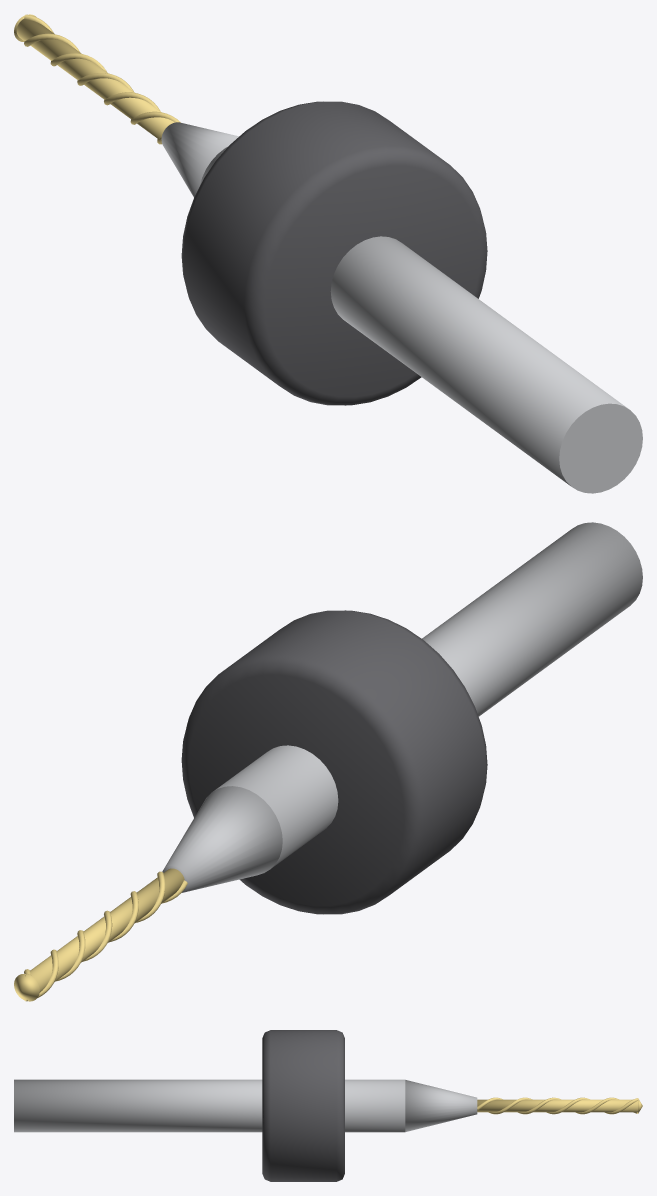
Rendered from drill18_1.glb.
3 views of the same model, one above another, from view 1: azimuth 30°, elevation 25°; view 2: azimuth 150°, elevation 25°; view 3: azimuth 270°, elevation 25° (orthographic). The views are drawn at different scales.
Parts seen in each view (by area): view 1: Cylinder.002, Cylinder.001, Cylinder, Cone, flute, flute.001; view 2: Cylinder.002, Cylinder.001, Cone, Cylinder, flute, flute.001; view 3: Cylinder.001, Cylinder.002, Cone, Cylinder, flute.001, flute.
Boxes of the visible parts, bbox=[...] form: Cylinder.002: bbox=[181, 101, 487, 405]; Cylinder.001: bbox=[200, 147, 642, 493]; Cylinder: bbox=[16, 19, 175, 138]; Cone: bbox=[161, 122, 238, 197]; flute: bbox=[24, 33, 180, 124]; flute.001: bbox=[24, 14, 161, 144]; Cylinder.002: bbox=[181, 610, 487, 914]; Cylinder.001: bbox=[213, 522, 642, 868]; Cone: bbox=[162, 786, 282, 892]; Cylinder: bbox=[28, 868, 184, 992]; flute: bbox=[25, 871, 165, 1001]; flute.001: bbox=[24, 880, 187, 981]; Cylinder.001: bbox=[14, 1079, 405, 1132]; Cylinder.002: bbox=[262, 1030, 344, 1181]; Cone: bbox=[405, 1080, 477, 1131]; Cylinder: bbox=[477, 1099, 637, 1112]; flute.001: bbox=[488, 1097, 638, 1114]; flute: bbox=[477, 1097, 637, 1114].
Bounding box in the file's own units: 0.00917 × 0.00917 × 0.038.
